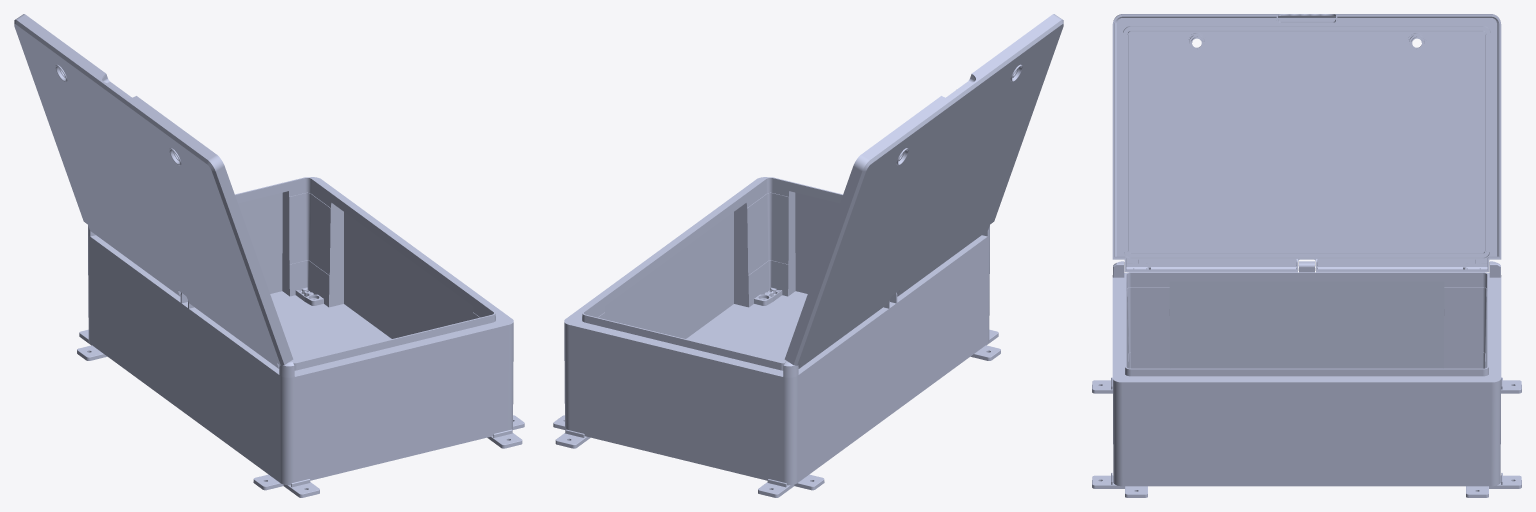
3 views of the same model, side by side, from view 1: azimuth 30°, elevation 25°; view 2: azimuth 150°, elevation 25°; view 3: azimuth 270°, elevation 25° (orthographic). The views are drawn at different scales.
Parts seen in each view (by area): view 1: NAUO1, NAUO3; view 2: NAUO1, NAUO3; view 3: NAUO3, NAUO1.
Boxes of the visible parts, bbox=[...] form: NAUO1: bbox=[88, 177, 513, 485]; NAUO3: bbox=[14, 14, 293, 368]; NAUO1: bbox=[564, 177, 989, 485]; NAUO3: bbox=[784, 14, 1063, 368]; NAUO3: bbox=[1112, 14, 1501, 272]; NAUO1: bbox=[1112, 261, 1501, 486].
Size of the model in its own units: 0.5515 by 0.5743 by 0.6638.
